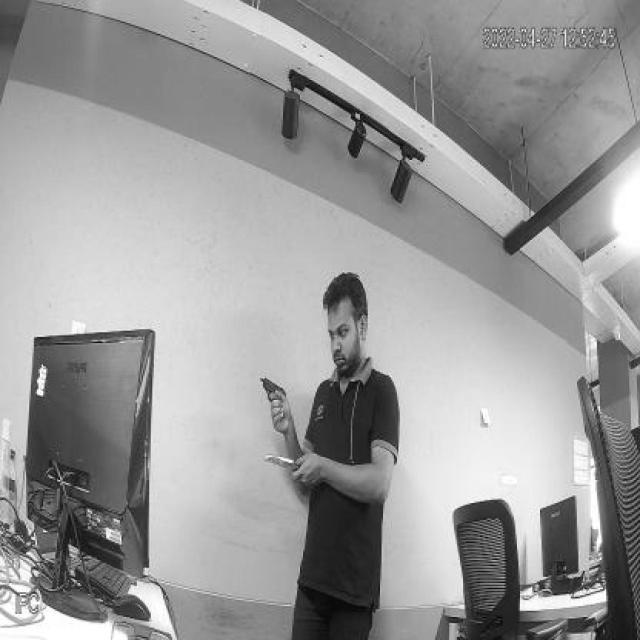weapon: (256, 376, 289, 422)
